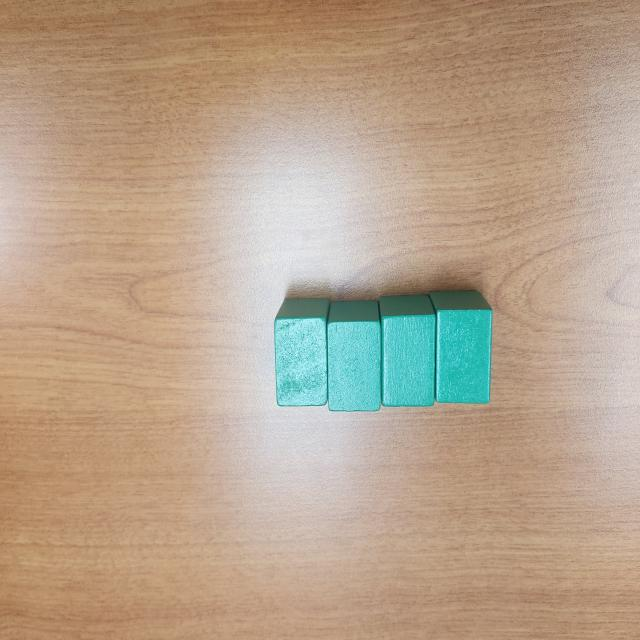green: (427, 290, 493, 405), (378, 292, 436, 408), (274, 297, 330, 411), (326, 301, 382, 412)
